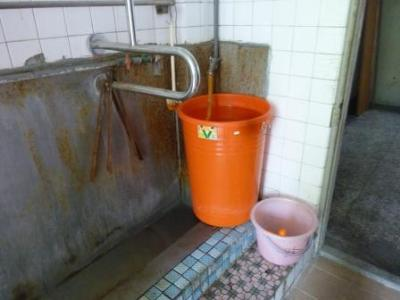bucket: (176, 92, 273, 228), (249, 196, 320, 267)
